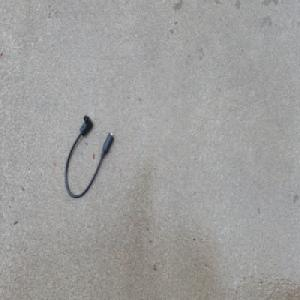Wire: (63, 113, 114, 200)
